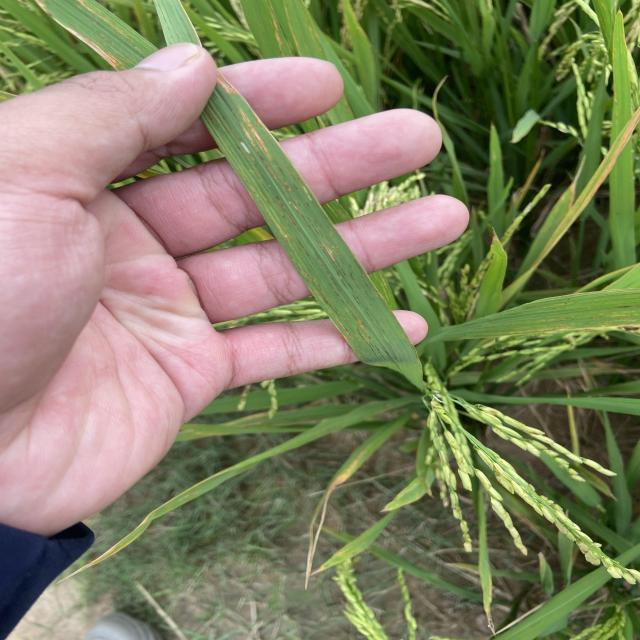Dom soc vi khuan: (238, 122, 302, 215), (237, 109, 274, 161), (277, 198, 296, 226), (354, 317, 373, 345), (335, 318, 355, 342), (237, 138, 256, 161), (295, 177, 312, 201), (322, 244, 336, 262)
